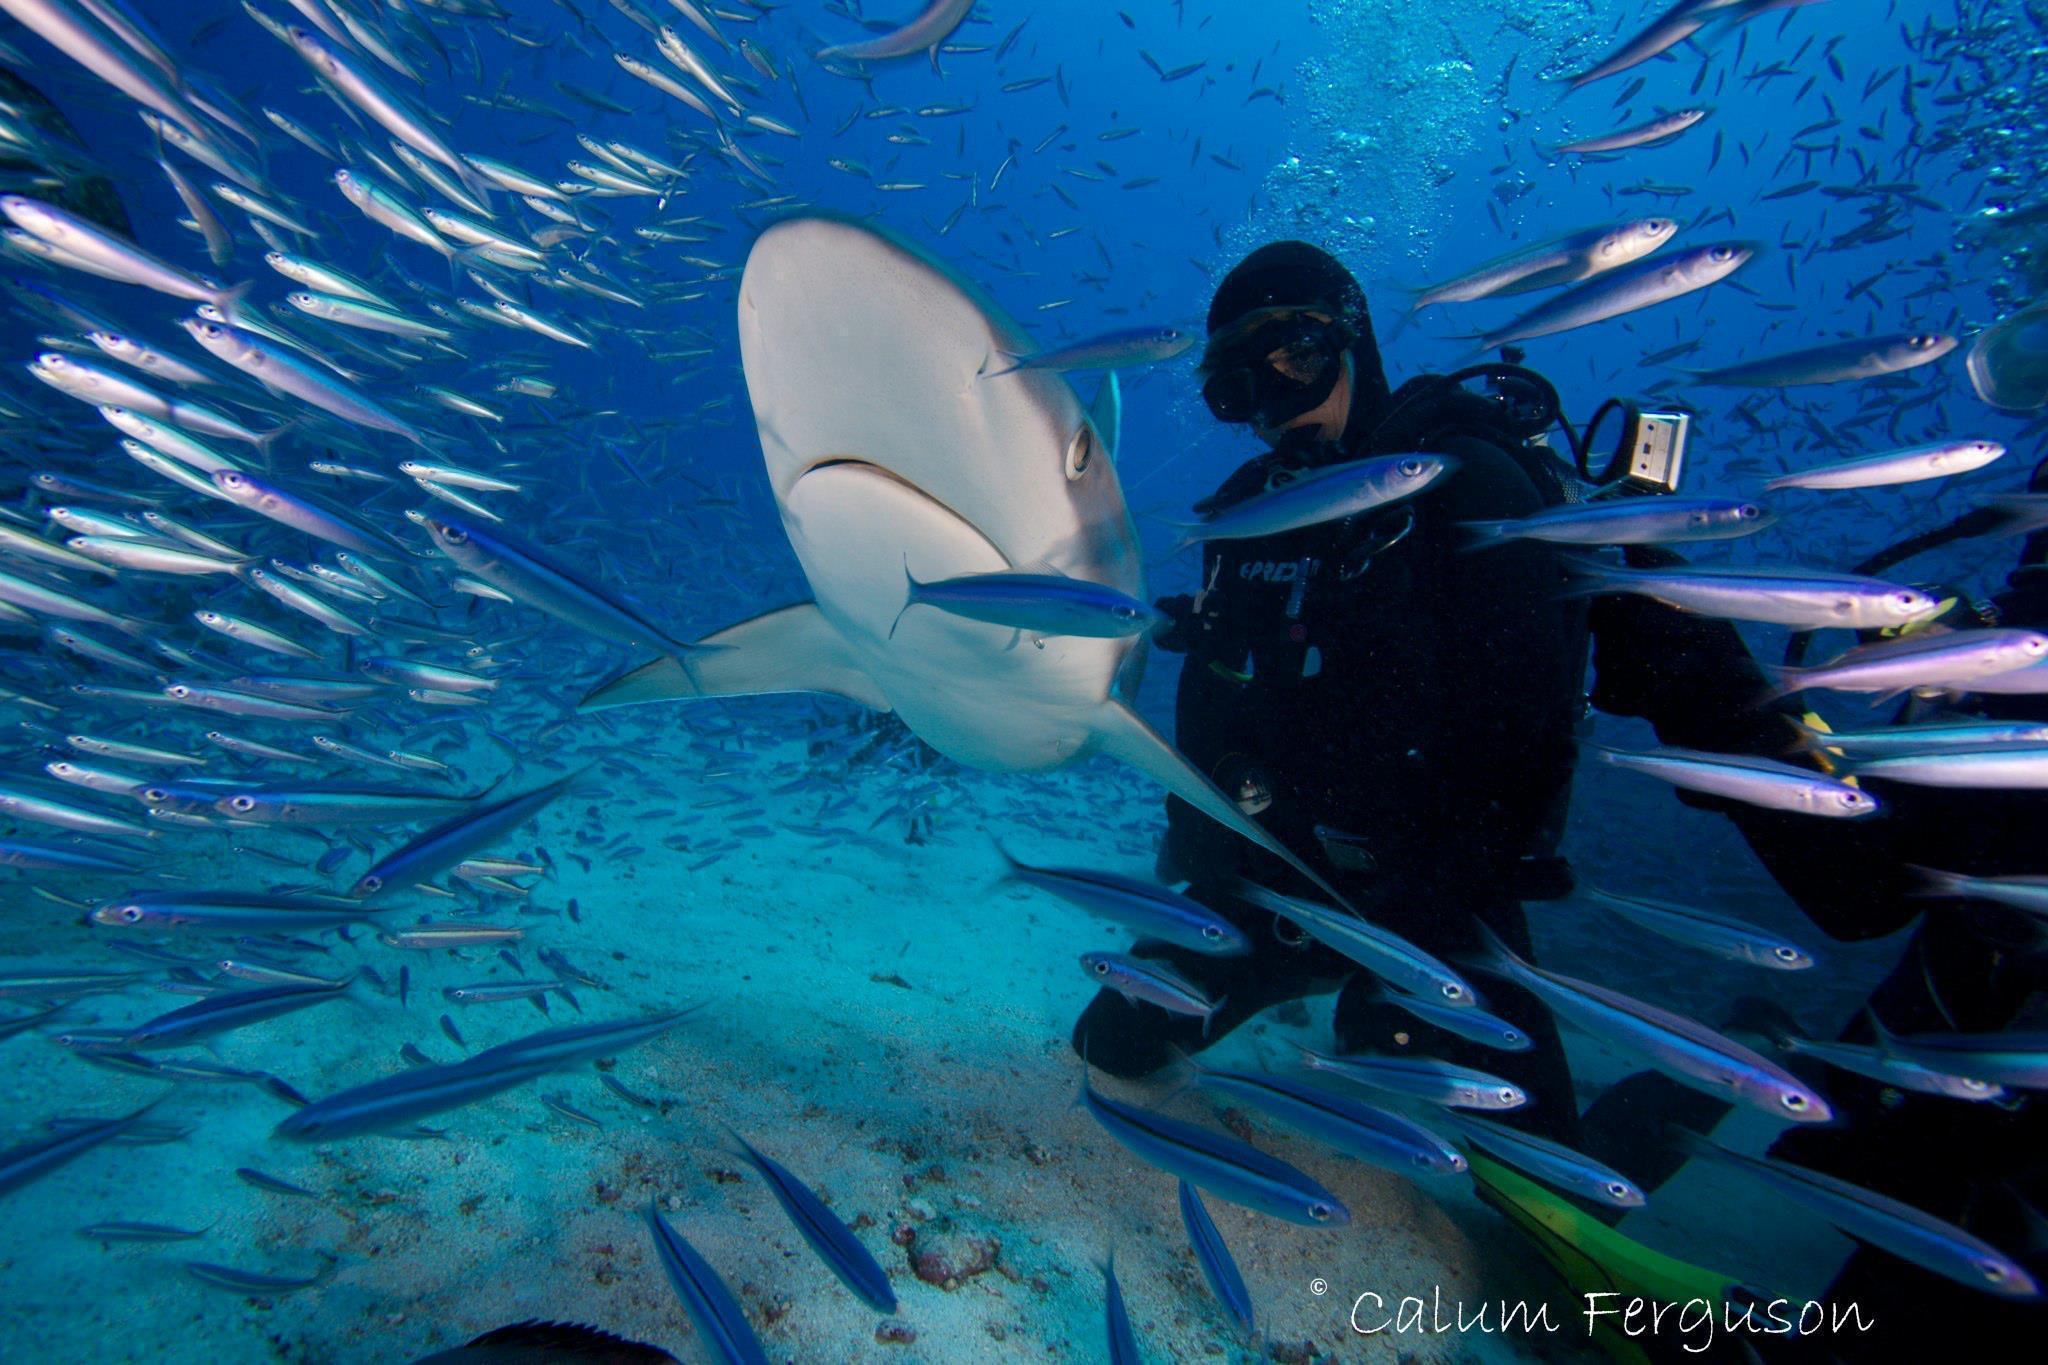Fish: (647, 197, 1233, 870)
